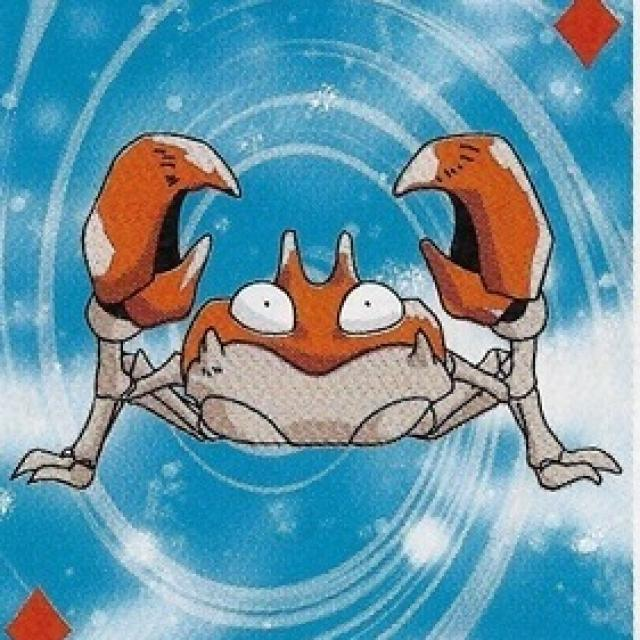Krabby: (77, 129, 552, 457)
